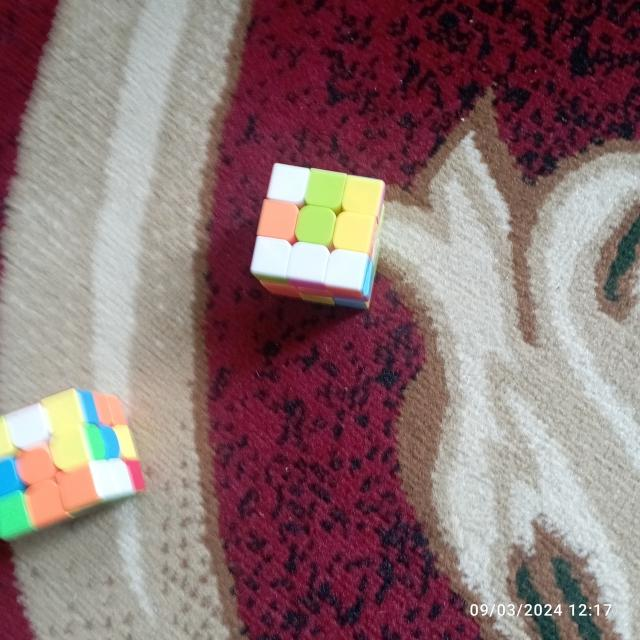Rub: (244, 150, 390, 318), (0, 383, 150, 546)
